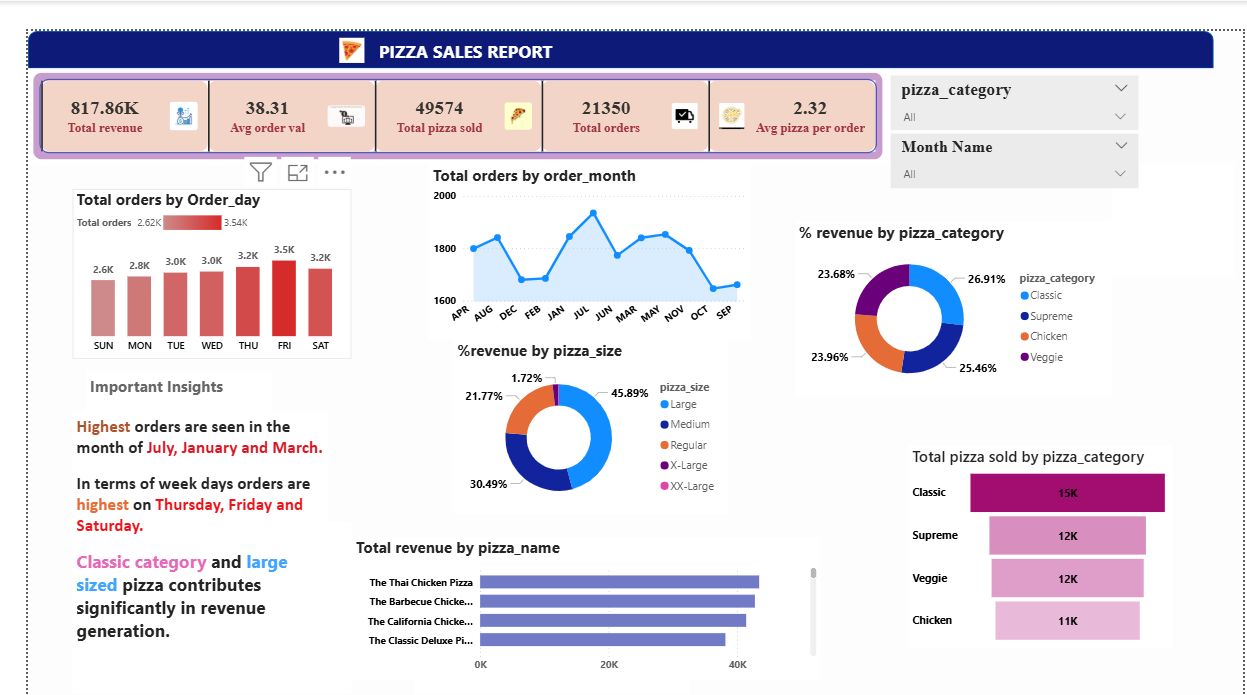

This screenshot's page, from the dashboard's own definition file:
{"tool":"powerbi","page":{"name":"Page 1","canvas":[1500,820],"ordinal":0},"visuals":[{"type":"cardVisual","fields":{"Data":["pzsld.Total revenue","pzsld.Avg order val","pzsld.Total pizza sold","pzsld.Total orders","pzsld.Avg pizza per order"]},"box":[0,45.7,1064.3,120],"z":0},{"type":"shape","box":[0,0,1463.8,46.2],"z":1000},{"type":"textbox","box":[427.5,5,230,38.8],"z":2000},{"type":"image","box":[371.2,8.8,56.2,31.2],"z":3000},{"type":"columnChart","fields":{"Category":["pzsld.Order_day"],"Y":["pzsld.Total orders"]},"box":[55.7,194.3,344.3,211.4],"z":4000},{"type":"areaChart","fields":{"Category":["pzsld.order_month"],"Y":["pzsld.Total orders"]},"box":[495.7,165.7,397.1,215.7],"z":5000},{"type":"donutChart","title":"% revenue by pizza_category","fields":{"Category":["pzsld.pizza_category"],"Y":["pzsld.Total revenue"]},"box":[947.1,234.3,391.4,215.7],"z":6000},{"type":"donutChart","title":"%revenue by pizza_size","fields":{"Category":["pzsld.pizza_size"],"Y":["pzsld.Total revenue"]},"box":[524.3,381.4,340,215.7],"z":7000},{"type":"funnel","fields":{"Category":["pzsld.pizza_category"],"Y":["pzsld.Total pizza sold"]},"box":[1086.7,511.7,326.7,250],"z":8000},{"type":"textbox","box":[1338.6,165.7,150,137.1],"z":9000},{"type":"textbox","box":[55.7,607.1,344.3,211.4],"z":10000},{"type":"textbox","box":[476,626,340,192],"z":11000},{"type":"textbox","box":[55.7,470,315.7,291.4],"z":12000},{"type":"slicer","fields":{"Values":["pzsld.pizza_category"]},"box":[1064.3,55.7,305.7,67.1],"z":13000},{"type":"slicer","fields":{"Values":["pzsld.Month Name"]},"box":[1064.3,127.1,305.7,67.1],"z":14000},{"type":"barChart","fields":{"Category":["pzsld.pizza_name"],"Y":["pzsld.Total revenue"]},"box":[400,625.7,578.6,175.7],"z":15000},{"type":"textbox","box":[71.4,420,230,50],"z":16000}]}

Visuals, with their boxes in screenshot pixels (x1, y1, x2, y2), scaled from the page's 1500x820 canvas onto the 1247x695 screenshot:
cardVisual - pzsld.Total revenue x pzsld.Avg order val: (0,39,885,140)
shape: (0,0,1217,39)
textbox: (355,4,547,37)
image: (309,7,355,34)
columnChart - pzsld.Order_day x pzsld.Total orders: (46,165,333,344)
areaChart - pzsld.order_month x pzsld.Total orders: (412,140,742,323)
"% revenue by pizza_category" donutChart: (787,199,1113,381)
"%revenue by pizza_size" donutChart: (436,323,719,506)
funnel - pzsld.pizza_category x pzsld.Total pizza sold: (903,434,1175,646)
textbox: (1113,140,1238,257)
textbox: (46,515,333,694)
textbox: (396,531,678,693)
textbox: (46,398,309,645)
slicer - pzsld.pizza_category: (885,47,1139,104)
slicer - pzsld.Month Name: (885,108,1139,165)
barChart - pzsld.pizza_name x pzsld.Total revenue: (333,530,814,679)
textbox: (59,356,251,398)
